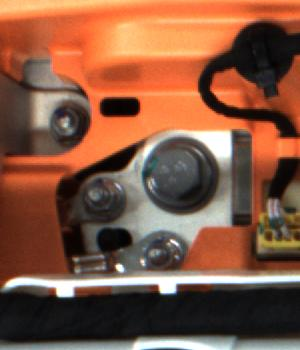nut_b: (136, 135, 226, 215)
